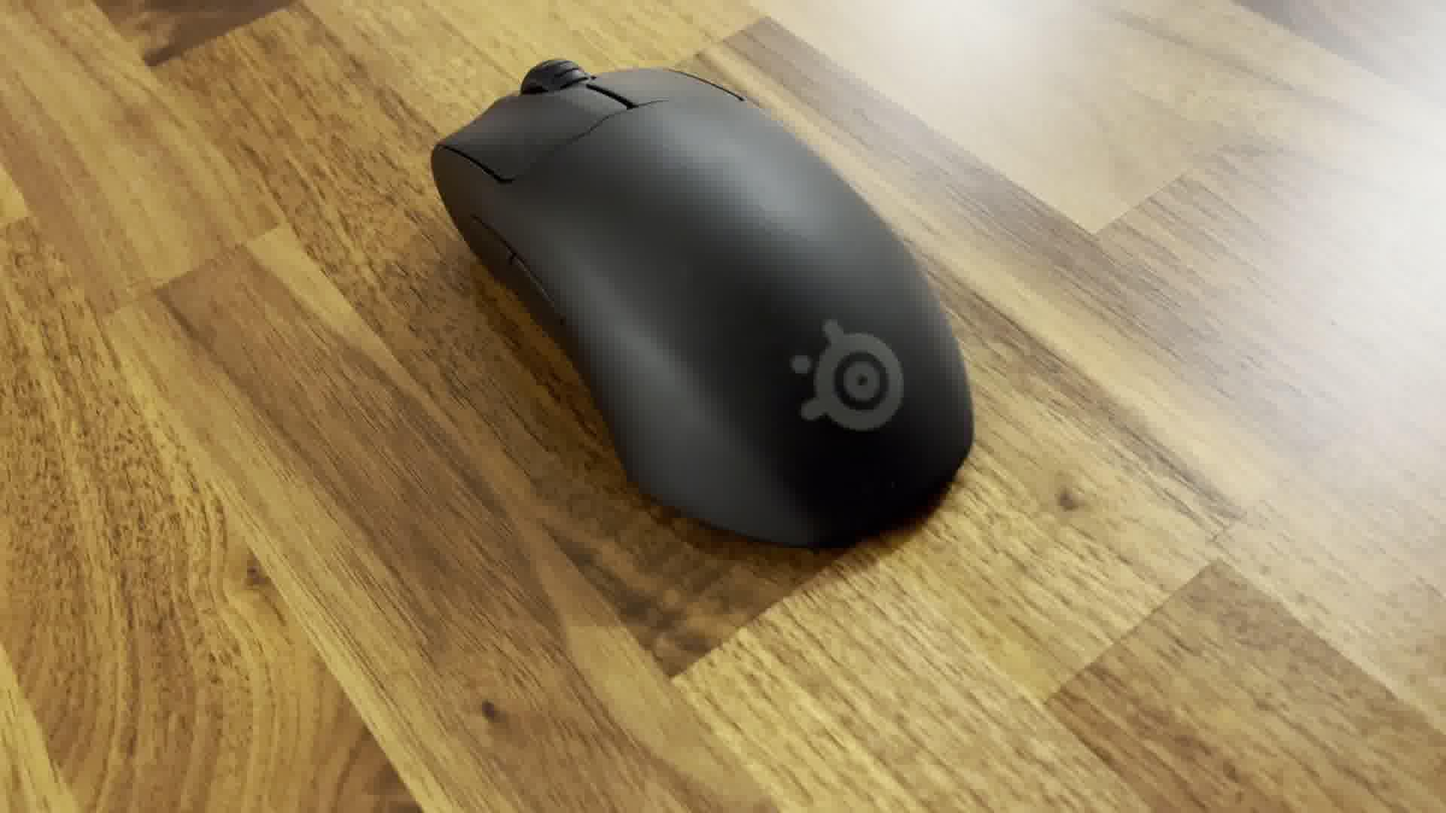mouse: (428, 51, 981, 559)
